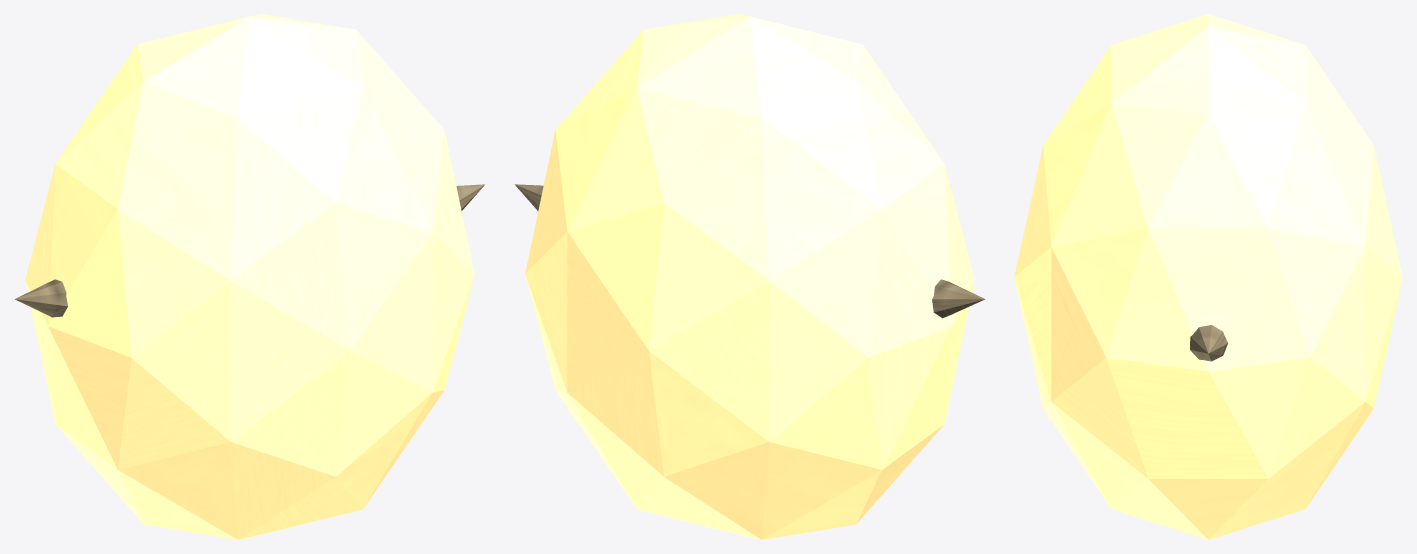
3 views of the same model, side by side, from view 1: azimuth 30°, elevation 25°; view 2: azimuth 150°, elevation 25°; view 3: azimuth 270°, elevation 25° (orthographic). The views are drawn at different scales.
Visible parts, largest first — view 1: glowgold, gold; view 2: glowgold, gold; view 3: glowgold, gold.
Boxes of the visible parts, left/top/right/bottom form: glowgold: left=25, top=14, right=474, bottom=539; gold: left=15, top=184, right=484, bottom=317; glowgold: left=525, top=14, right=974, bottom=539; gold: left=515, top=184, right=984, bottom=318; glowgold: left=1014, top=14, right=1402, bottom=539; gold: left=1190, top=325, right=1227, bottom=361.
Size of the model in its own units: 0.7 by 0.74 by 0.52.
Materials: 2 (2 with a texture image).
